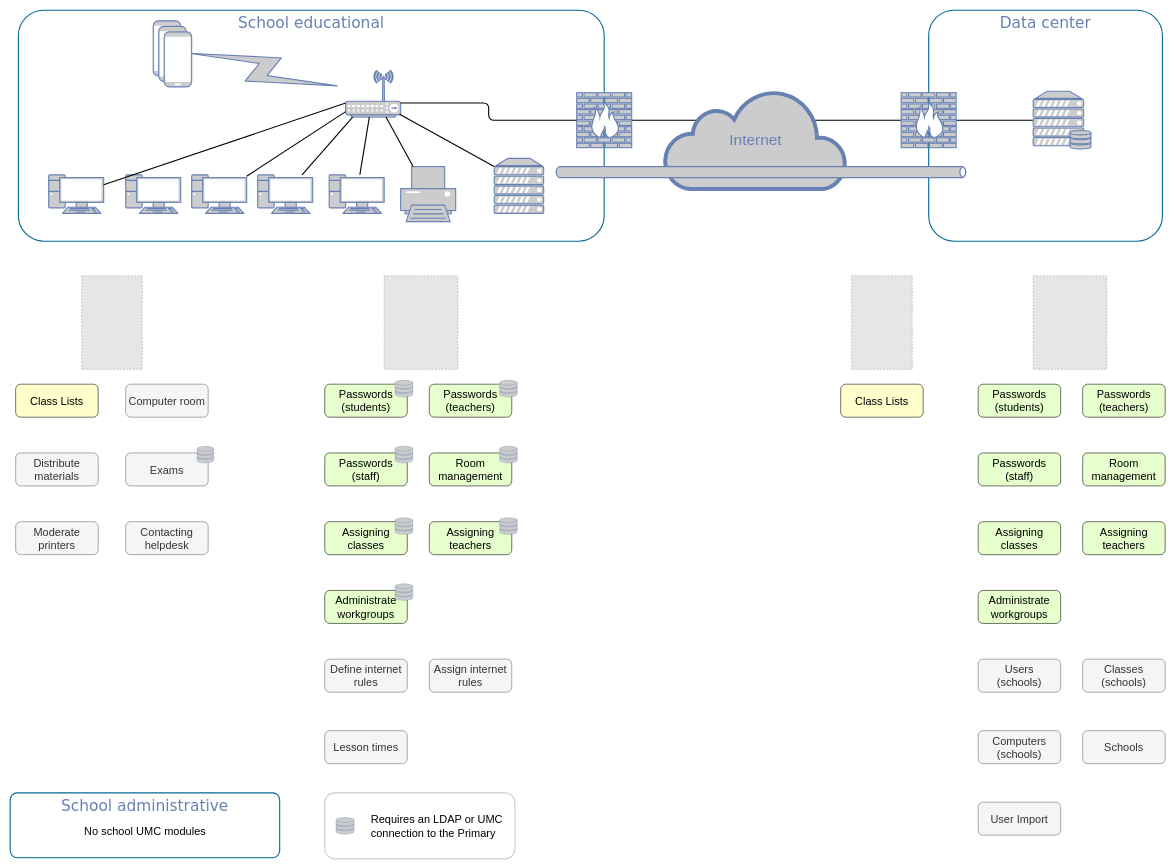
The diagram is 1175 pixels wide and 868 high, and some of its shapes have lost their labels. Grey dashed boxes stand in for pictures. The centre of each missing label's shape, as x and y in pixels:
Primary: point (1061, 119)
Replication: point (518, 186)
VPN: point (760, 172)
